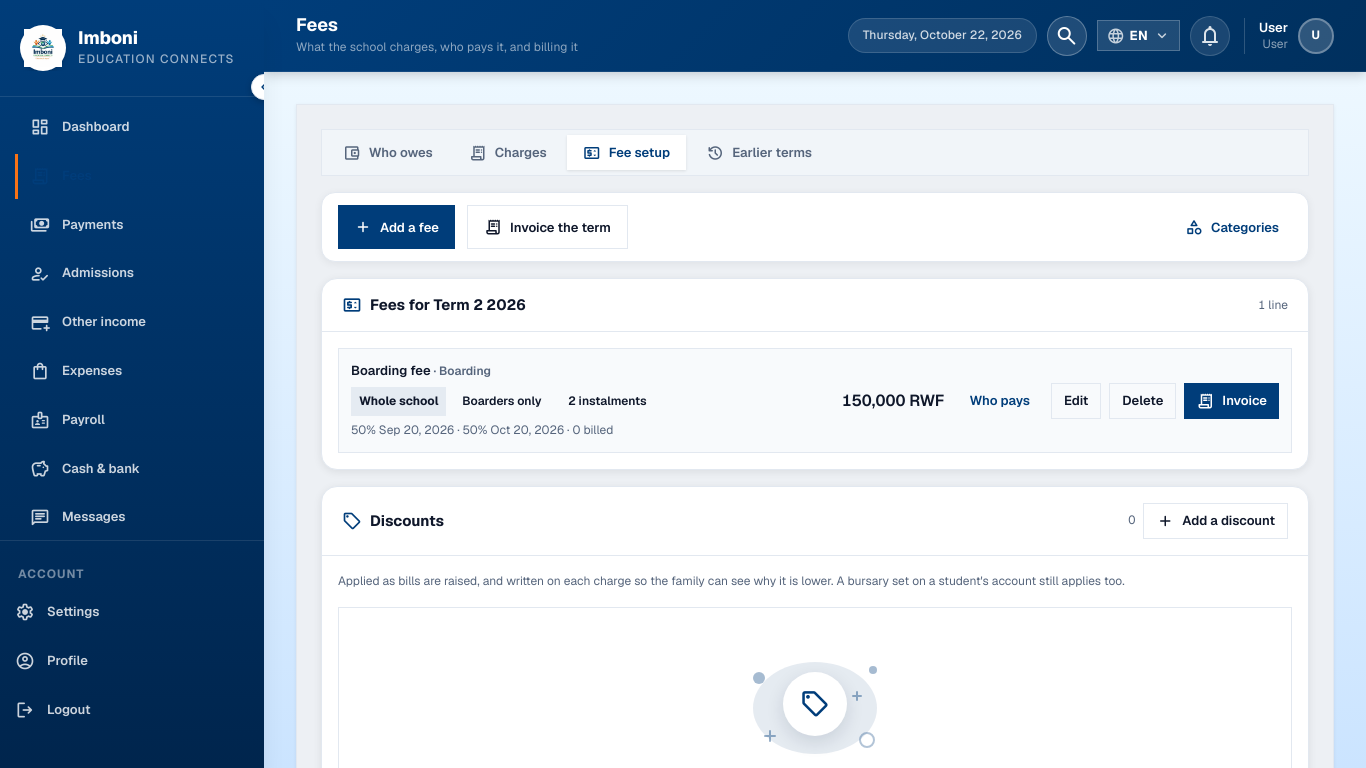
Test case: FinanceFeesHub › previews the whole term before billing anyone
The width and height of the screenshot is (1366, 768).
Expected: the text "Boarding fee" is shown, left=351, top=362, right=431, bottom=379
Click the button "Invoice the term" at (547, 227), box left=467, top=205, right=628, bottom=249
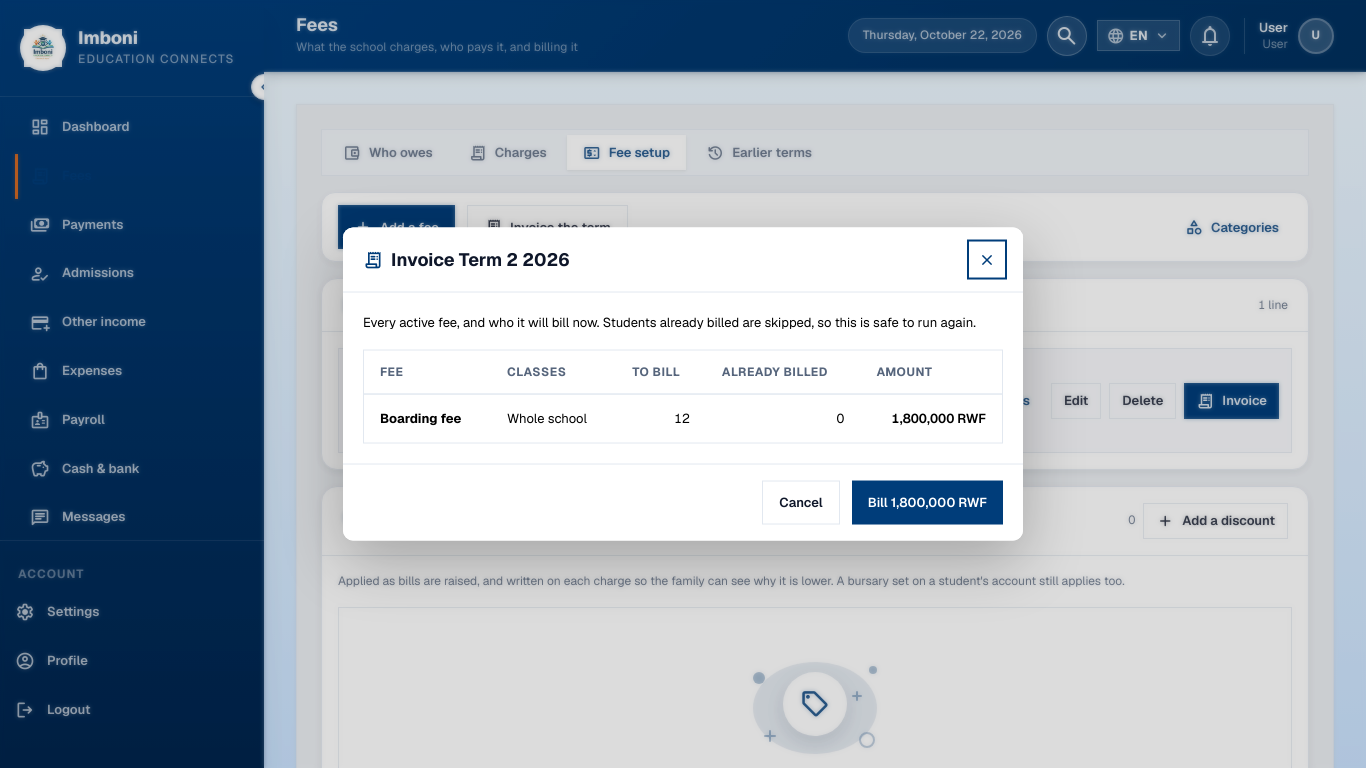
Expected: the button "Bill 1,800,000 RWF" is shown, left=852, top=480, right=1003, bottom=524
